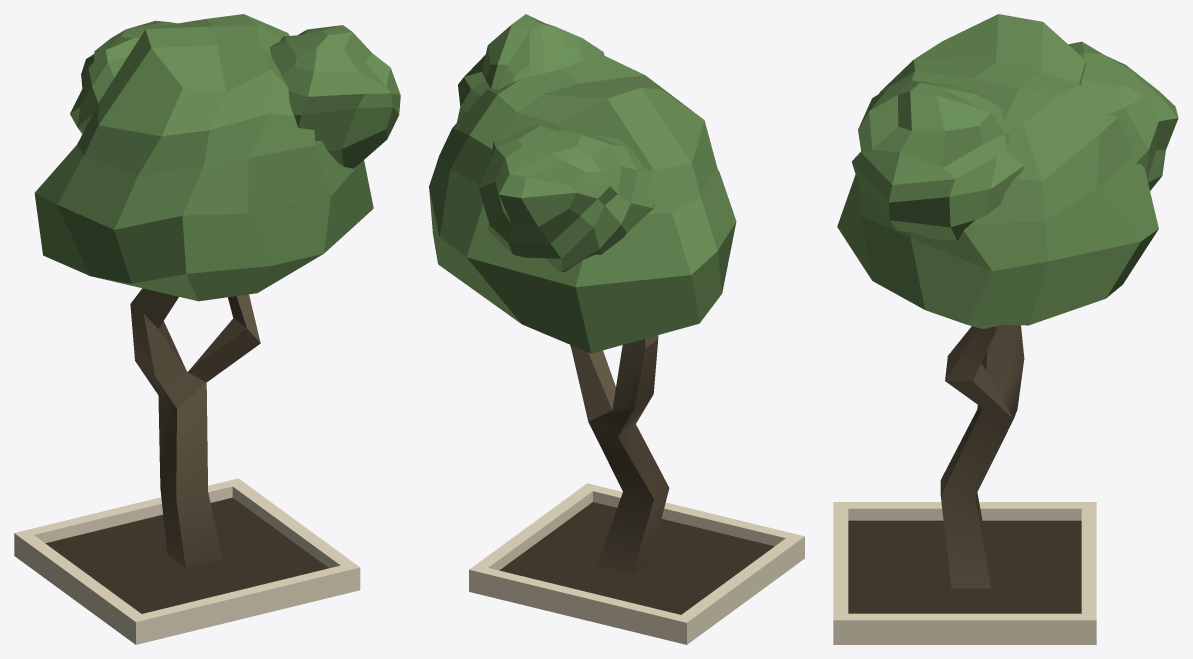
Rendered from tree.fbx.
The picture shows the model from 3 angles, left to right: view 1: azimuth 30°, elevation 25°; view 2: azimuth 150°, elevation 25°; view 3: azimuth 270°, elevation 25°; orthographic projection. The views are drawn at different scales.
Parts seen in each view (by area): view 1: pCube23, pCube26, pCube25, pCube38, pCube39; view 2: pCube23, pCube26, pCube39, pCube25, pCube38; view 3: pCube23, pCube26, pCube38, pCube25, pCube39.
Boxes of the visible parts, bbox=[...] form: pCube23: bbox=[34, 14, 373, 301]; pCube26: bbox=[14, 478, 360, 644]; pCube25: bbox=[130, 288, 260, 567]; pCube38: bbox=[270, 25, 400, 168]; pCube39: bbox=[70, 20, 177, 133]; pCube23: bbox=[429, 54, 736, 353]; pCube26: bbox=[469, 483, 804, 644]; pCube39: bbox=[478, 126, 654, 272]; pCube25: bbox=[570, 335, 669, 574]; pCube38: bbox=[457, 14, 604, 122]; pCube23: bbox=[837, 14, 1158, 329]; pCube26: bbox=[833, 502, 1096, 644]; pCube38: bbox=[852, 80, 1024, 241]; pCube25: bbox=[940, 325, 1024, 588]; pCube39: bbox=[1068, 41, 1178, 190].
Size of the model in its own units: 0.2713 by 0.4481 by 0.2467.
